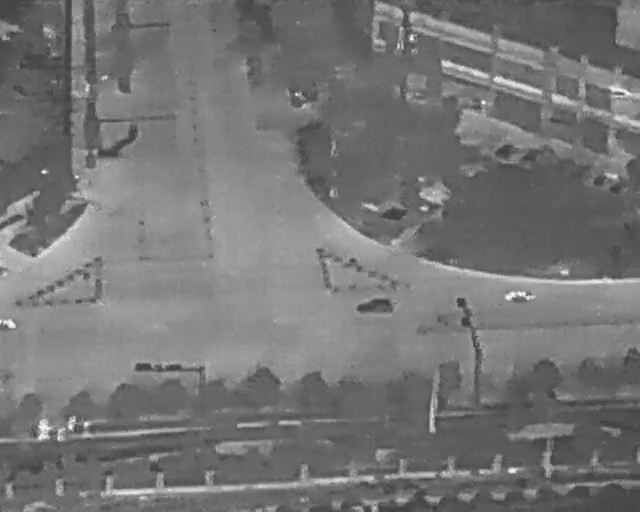Bicycle: (0, 317, 17, 330)
Car: (514, 142, 544, 172), (492, 138, 520, 165), (589, 164, 616, 192), (354, 297, 393, 316), (604, 173, 628, 199)
Person: (35, 419, 49, 439), (54, 427, 67, 444), (66, 414, 77, 433), (80, 421, 92, 435), (84, 83, 90, 93)
